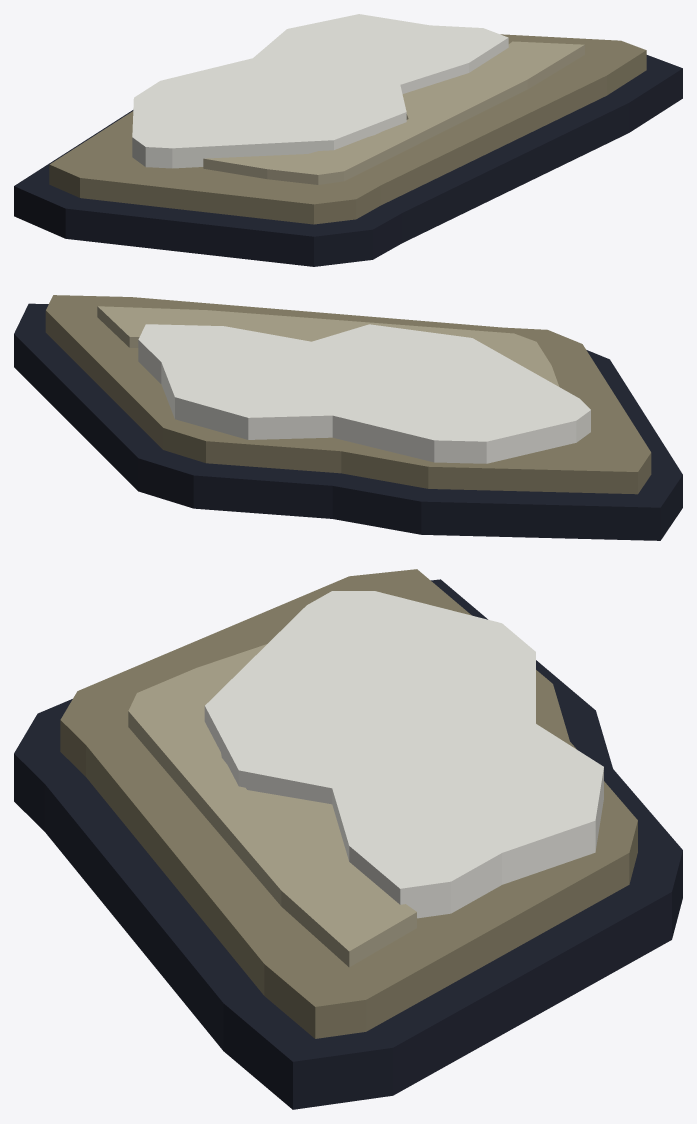
Rendered from flour.fbx.
3 views of the same model, one above another, from view 1: azimuth 30°, elevation 25°; view 2: azimuth 150°, elevation 25°; view 3: azimuth 270°, elevation 25° (orthographic). The views are drawn at different scales.
Parts seen in each view (by area): view 1: flour; view 2: flour; view 3: flour.
Part boxes in pixels (x1=…): flour: x1=14, y1=14, x2=682, y2=266; flour: x1=14, y1=295, x2=682, y2=540; flour: x1=14, y1=569, x2=682, y2=1109.
Size of the model in its own units: 1.29 by 0.14 by 0.7574.
1 material, 1 textured.
